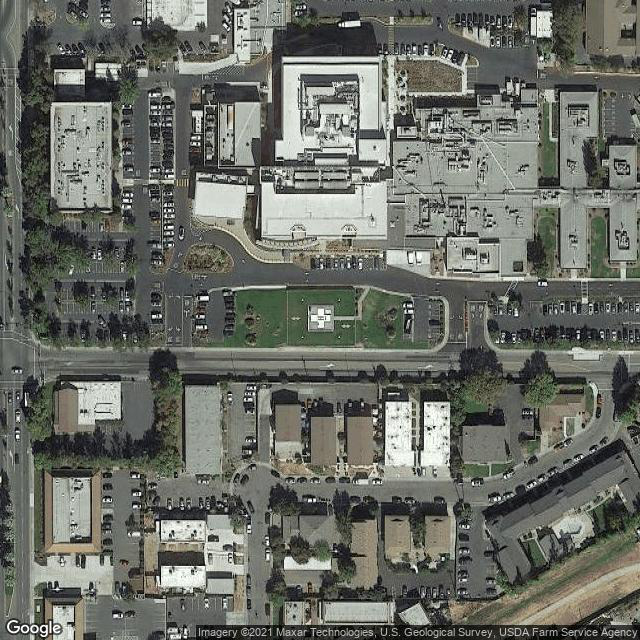Helipad: (306, 303, 335, 331)
